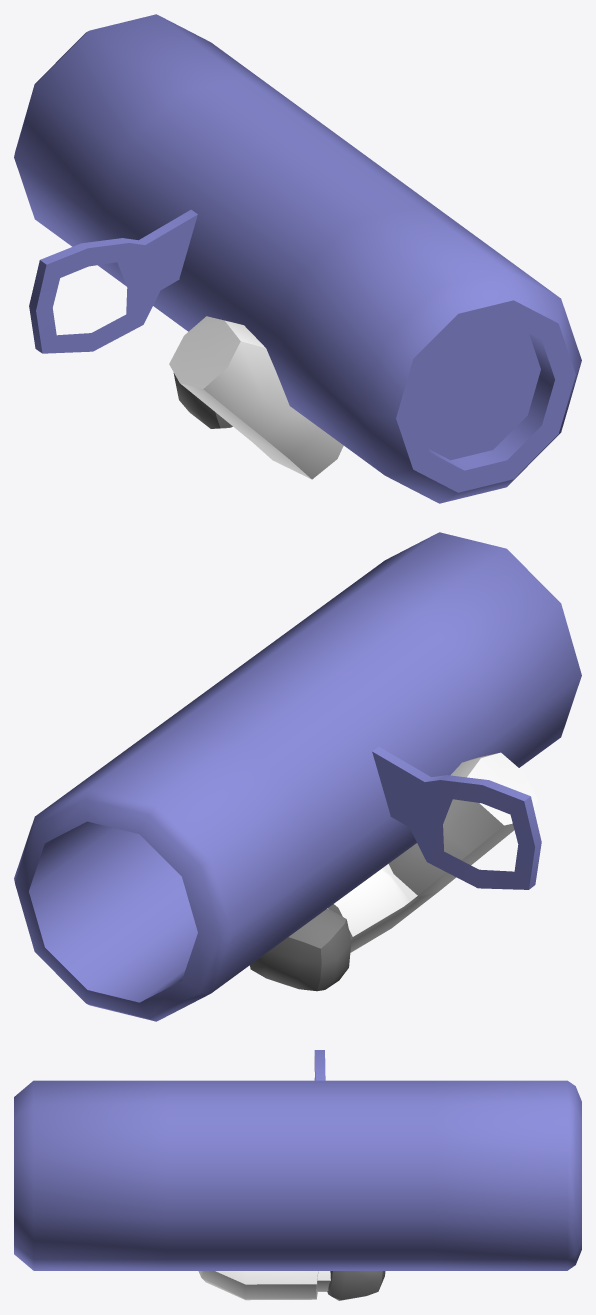
File: die_arm_laser.gltf
The picture shows the model from 3 angles, top to bottom: view 1: azimuth 30°, elevation 25°; view 2: azimuth 150°, elevation 25°; view 3: azimuth 270°, elevation 25°; orthographic projection. The views are drawn at different scales.
Visible parts, largest first — view 1: die_arm_laser-Mat.3, die_arm_laser-Mat, die_arm_laser-Mat.1; view 2: die_arm_laser-Mat.3, die_arm_laser-Mat, die_arm_laser-Mat.1; view 3: die_arm_laser-Mat.3, die_arm_laser-Mat, die_arm_laser-Mat.1.
Part boxes in pixels (<box>): die_arm_laser-Mat.3: <box>14,14,581,503</box>; die_arm_laser-Mat: <box>169,316,343,479</box>; die_arm_laser-Mat.1: <box>173,373,232,428</box>; die_arm_laser-Mat.3: <box>14,532,581,1021</box>; die_arm_laser-Mat: <box>327,752,538,952</box>; die_arm_laser-Mat.1: <box>250,909,351,991</box>; die_arm_laser-Mat.3: <box>14,1050,581,1270</box>; die_arm_laser-Mat: <box>198,1271,330,1300</box>; die_arm_laser-Mat.1: <box>327,1271,385,1300</box>.
Size of the model in its own units: 279 by 212 by 497.
